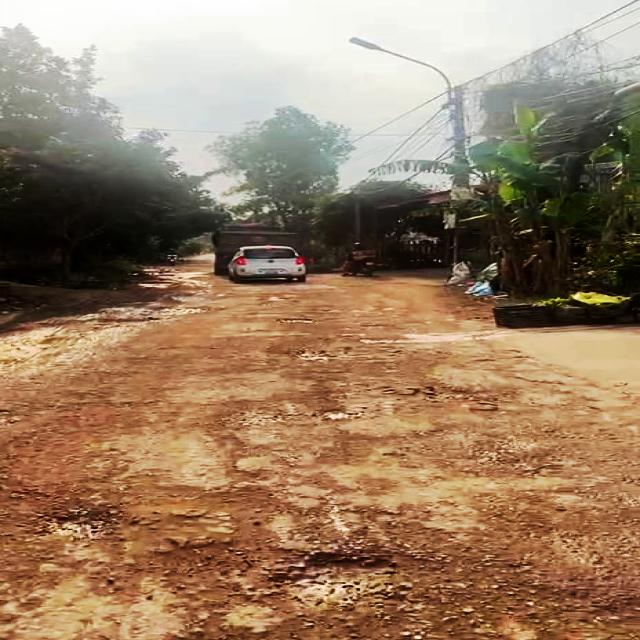pothole: (269, 550, 408, 612), (146, 546, 258, 608), (47, 505, 131, 542), (219, 401, 295, 431), (421, 386, 512, 406), (290, 347, 332, 360)
